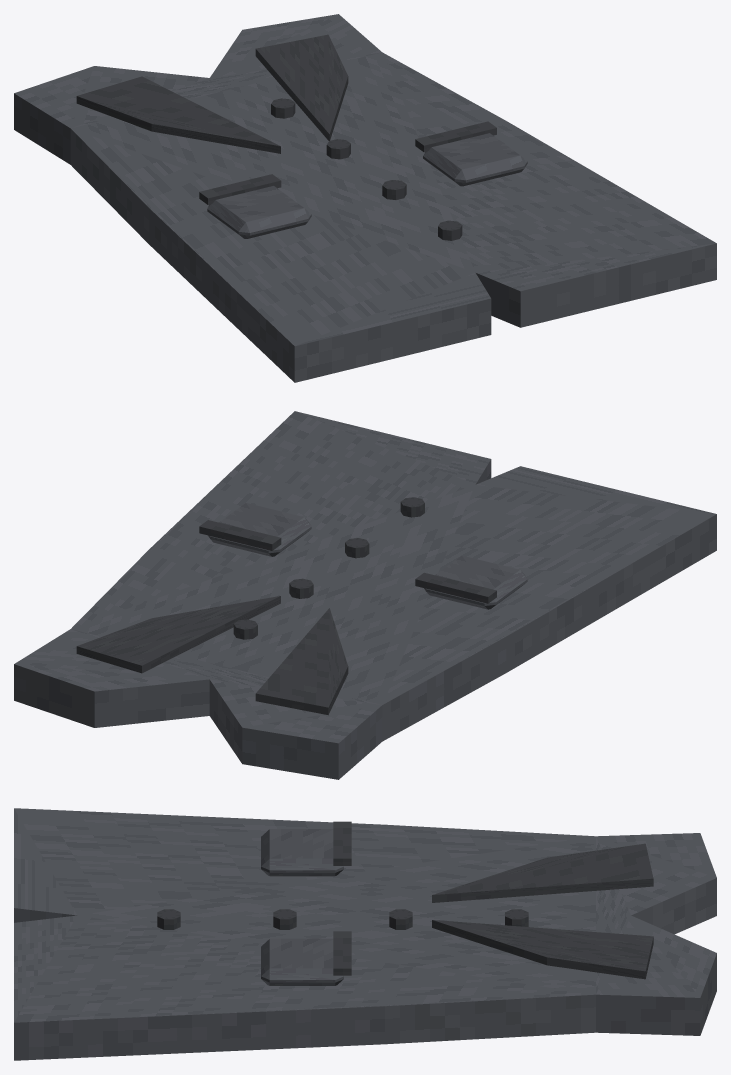
Rendered from sleeveless_trenchcoat.glb.
3 renders of one model, top to bottom at view 1: azimuth 30°, elevation 25°; view 2: azimuth 150°, elevation 25°; view 3: azimuth 270°, elevation 25°, orthographic. The views are drawn at different scales.
Visible parts, largest first — view 1: block_coat body, block_lapel (×2), block_patch pocket (×2), block_pocket welt (×2); view 2: block_coat body, block_lapel (×2), block_patch pocket (×2), block_pocket welt (×2); view 3: block_coat body, block_lapel (×2), block_patch pocket (×2), block_pocket welt (×2), block_button (×3).
Boxes of the visible parts, x1,y1,x2,y2 form: block_coat body: (14, 14, 716, 382); block_lapel (×2): (76, 34, 348, 153); block_patch pocket (×2): (207, 133, 527, 238); block_pocket welt (×2): (199, 121, 496, 204); block_coat body: (14, 411, 716, 779); block_lapel (×2): (76, 596, 348, 715); block_patch pocket (×2): (208, 503, 527, 609); block_pocket welt (×2): (199, 520, 496, 603); block_coat body: (14, 808, 716, 1060); block_lapel (×2): (432, 843, 653, 979); block_patch pocket (×2): (261, 829, 343, 985); block_pocket welt (×2): (333, 821, 351, 975); block_button (×3): (157, 909, 412, 929).
Bounding box in the file's own units: 0.533 × 0.0676 × 0.738.
Materials: 1 (1 with a texture image).
